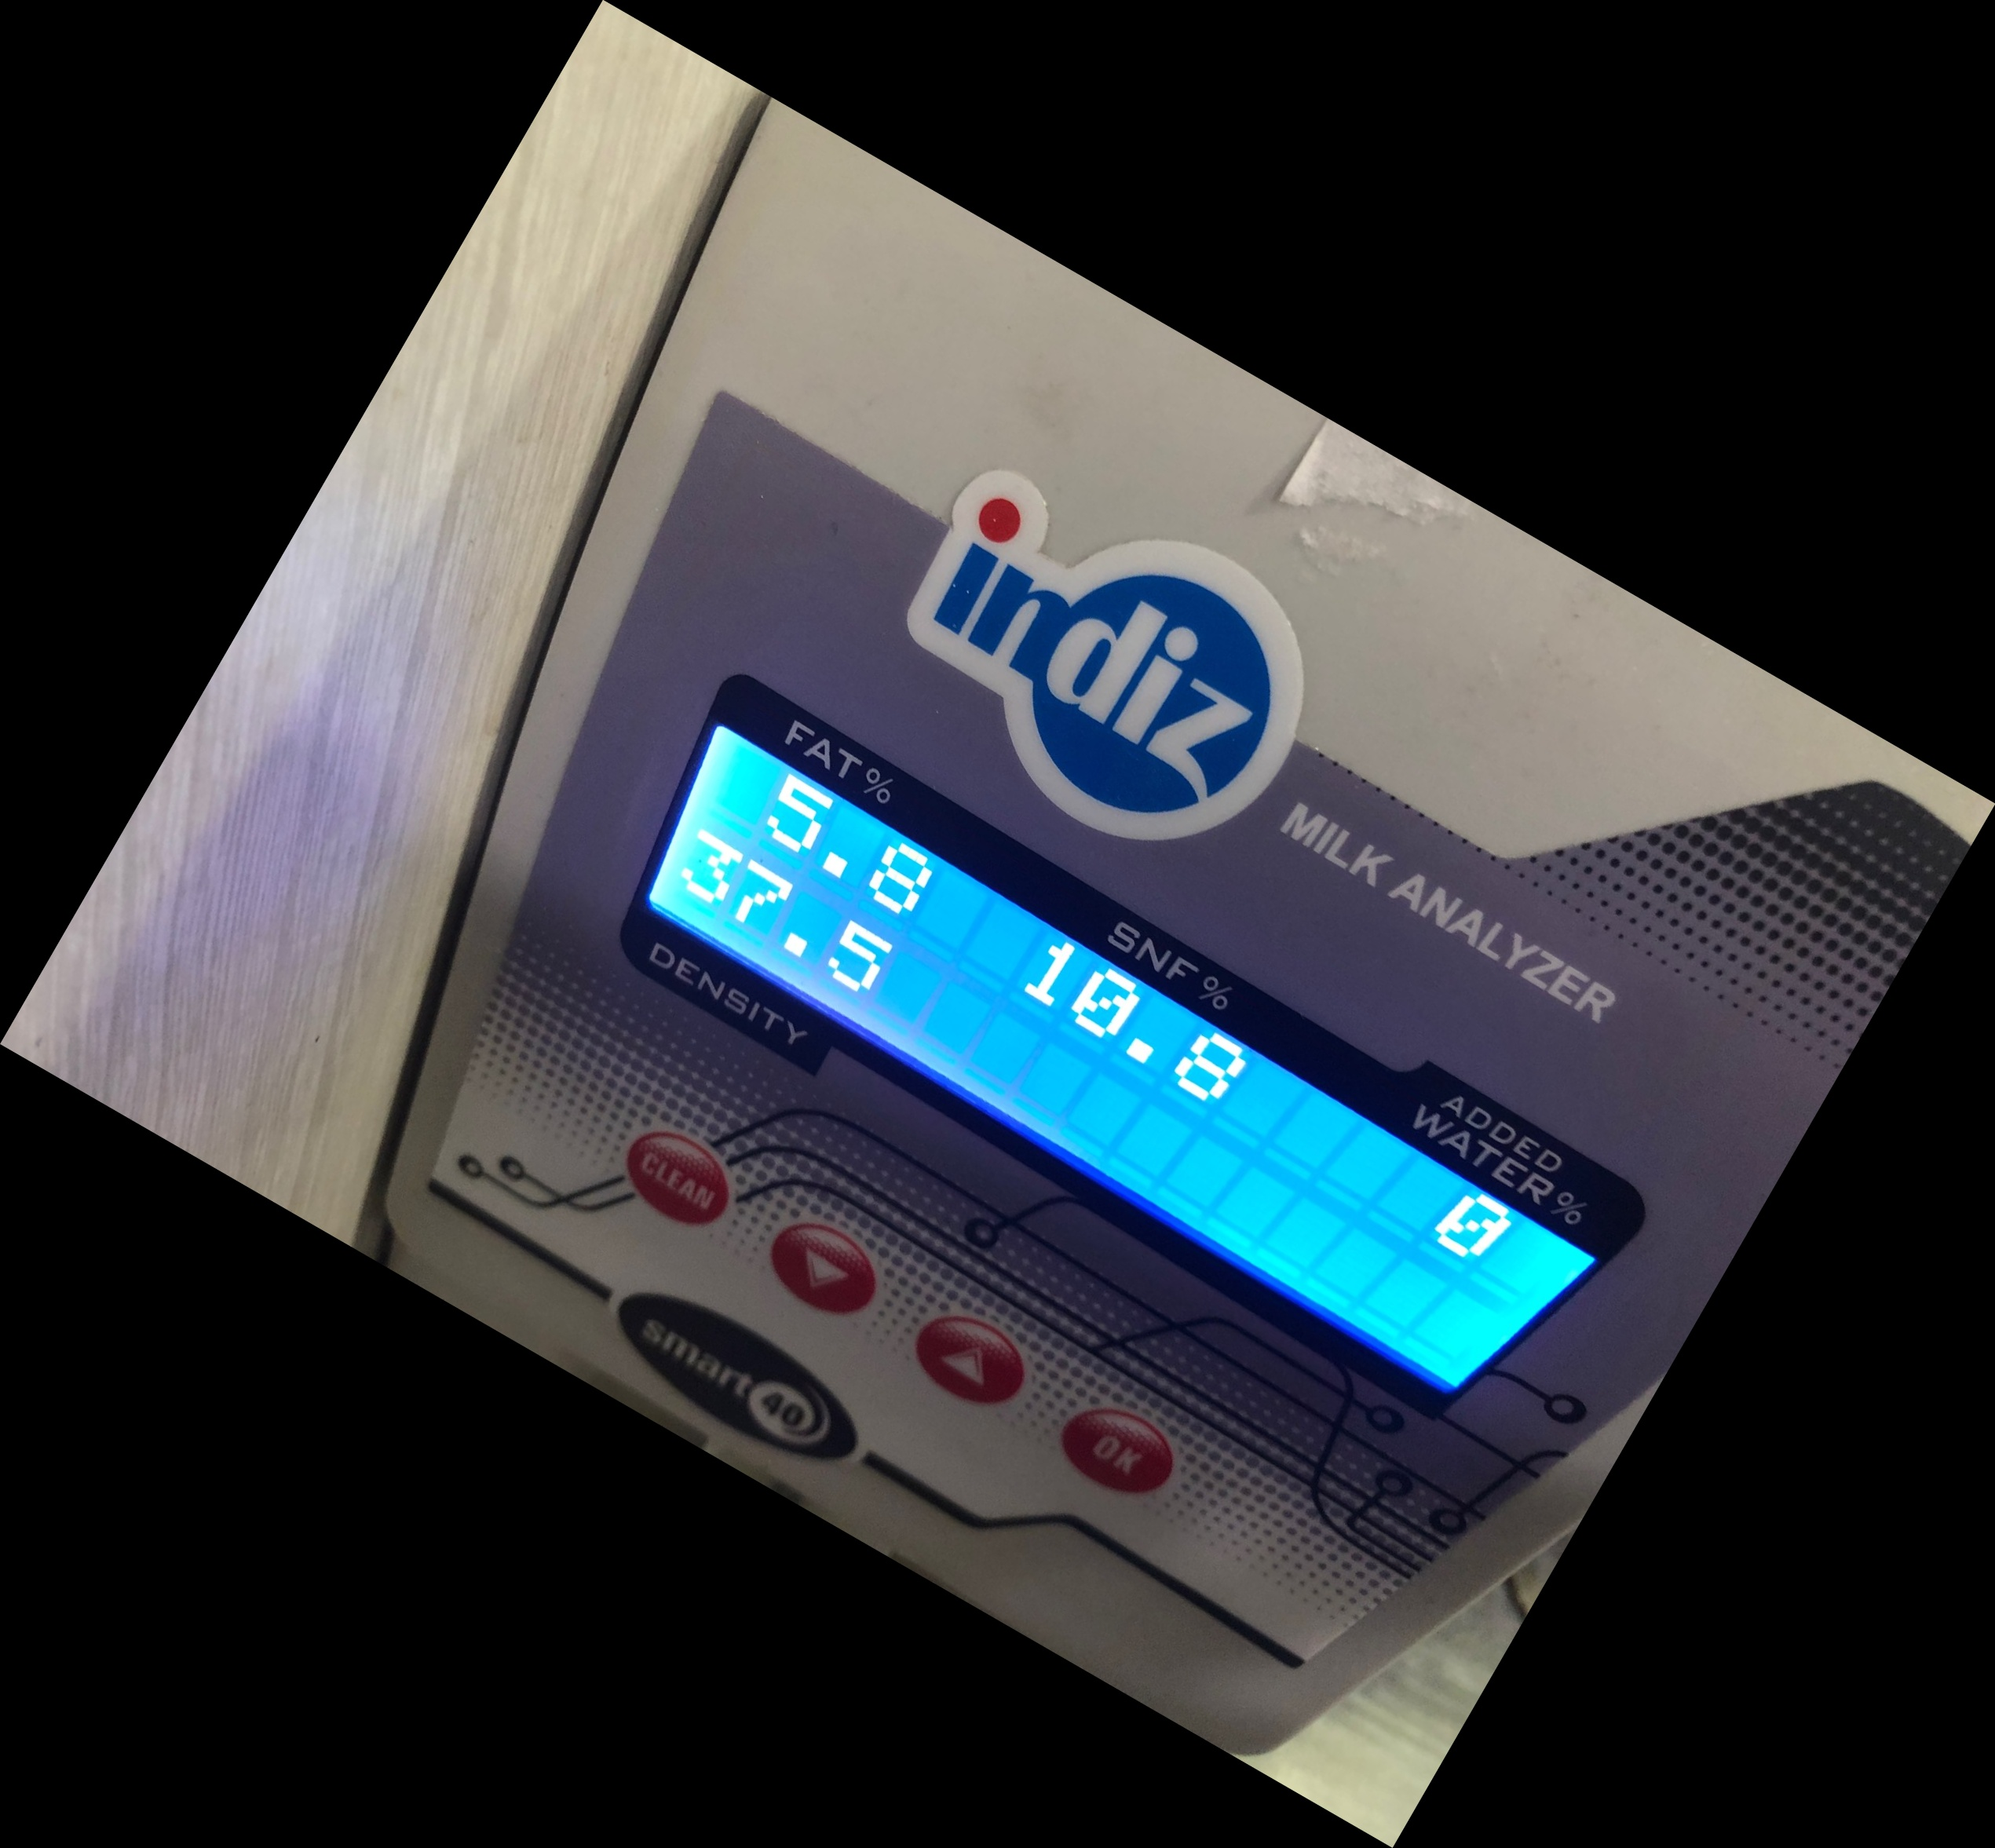lcd: (610, 669, 1658, 1450)
